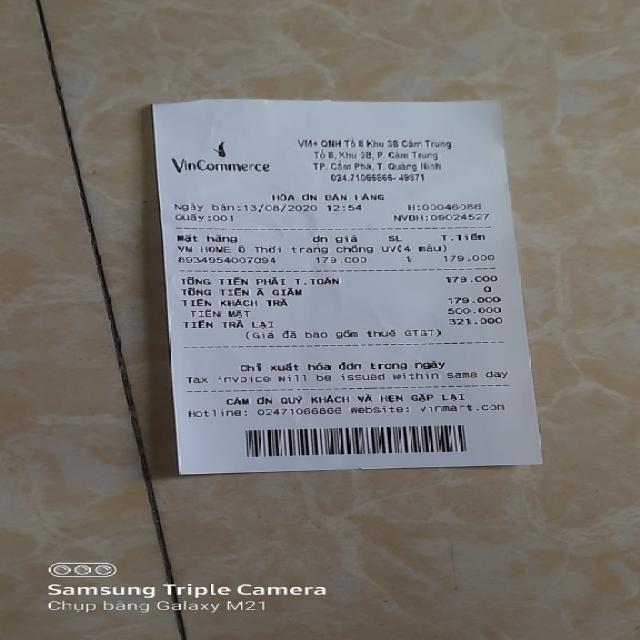Date: (242, 202, 320, 213)
Store_Name: (165, 156, 278, 177)
amount_number: (445, 272, 500, 284)
label_total: (176, 274, 342, 286)
